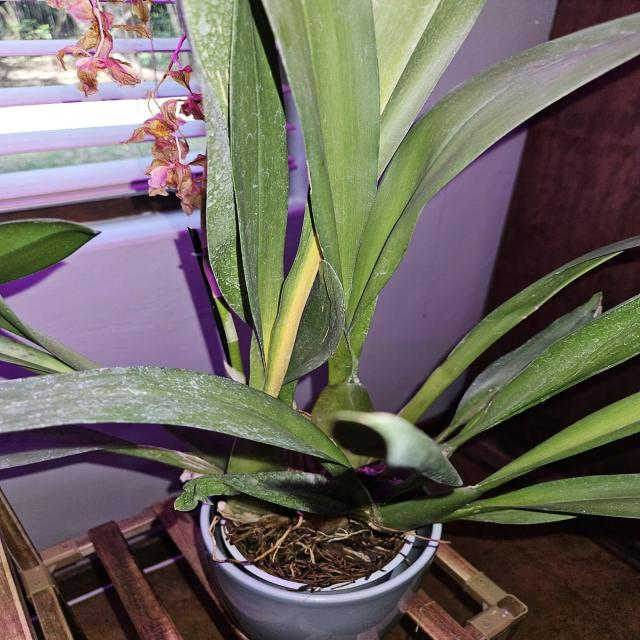flower: (148, 144, 204, 213)
leaf: (350, 17, 638, 305), (2, 368, 347, 459), (264, 1, 378, 273), (455, 296, 639, 436), (231, 4, 290, 345), (445, 474, 639, 520), (1, 220, 95, 283), (176, 475, 311, 511)
pot: (176, 460, 449, 639)
